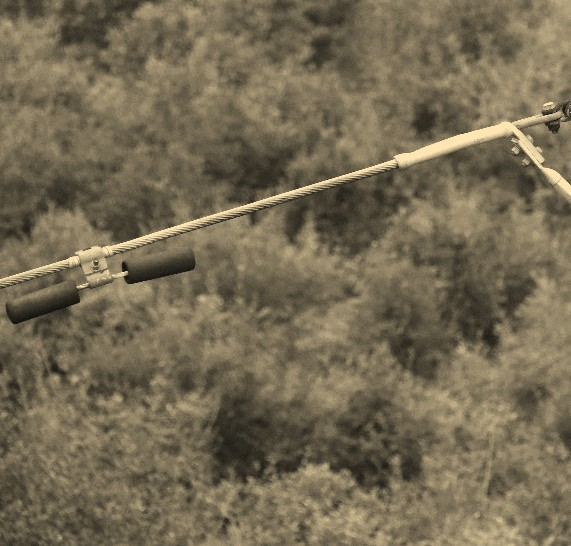Shockproof hammer: (1, 219, 201, 325)
